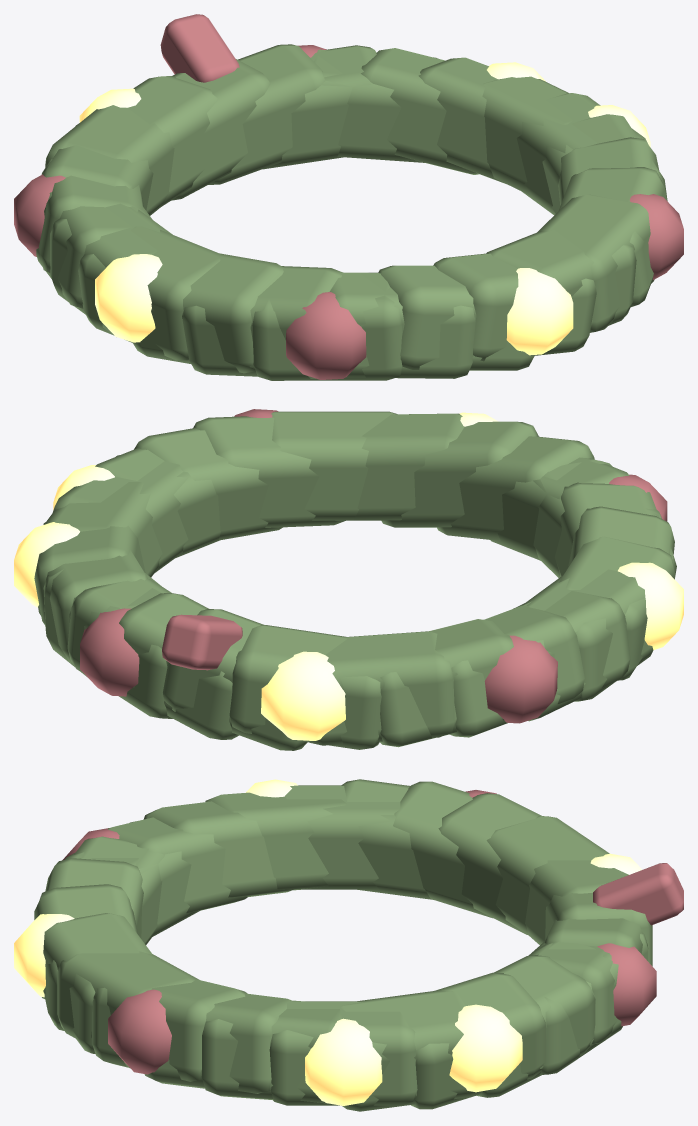
File: witch-cottage-and-apothecary-herb-wreath-e980521a__32459.glb
3 renders of one model, top to bottom at view 1: azimuth 30°, elevation 25°; view 2: azimuth 150°, elevation 25°; view 3: azimuth 270°, elevation 25°, orthographic. The views are drawn at different scales.
Visible parts, largest first — view 1: herb-wreath; view 2: herb-wreath; view 3: herb-wreath.
Boxes of the visible parts, box(x1,y1,x2,y2) form: herb-wreath: box(14, 14, 683, 380); herb-wreath: box(14, 409, 683, 750); herb-wreath: box(14, 779, 683, 1111).
Size of the model in its own units: 0.6667 by 0.1412 by 0.6818.
